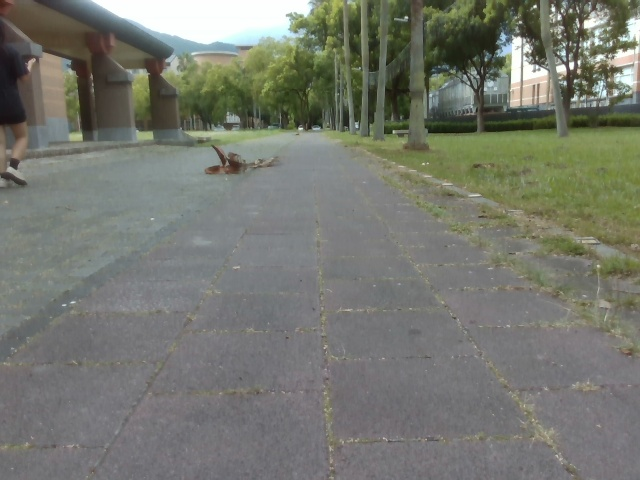grass: (182, 115, 639, 340), (164, 0, 639, 148)
road: (0, 134, 639, 479)
